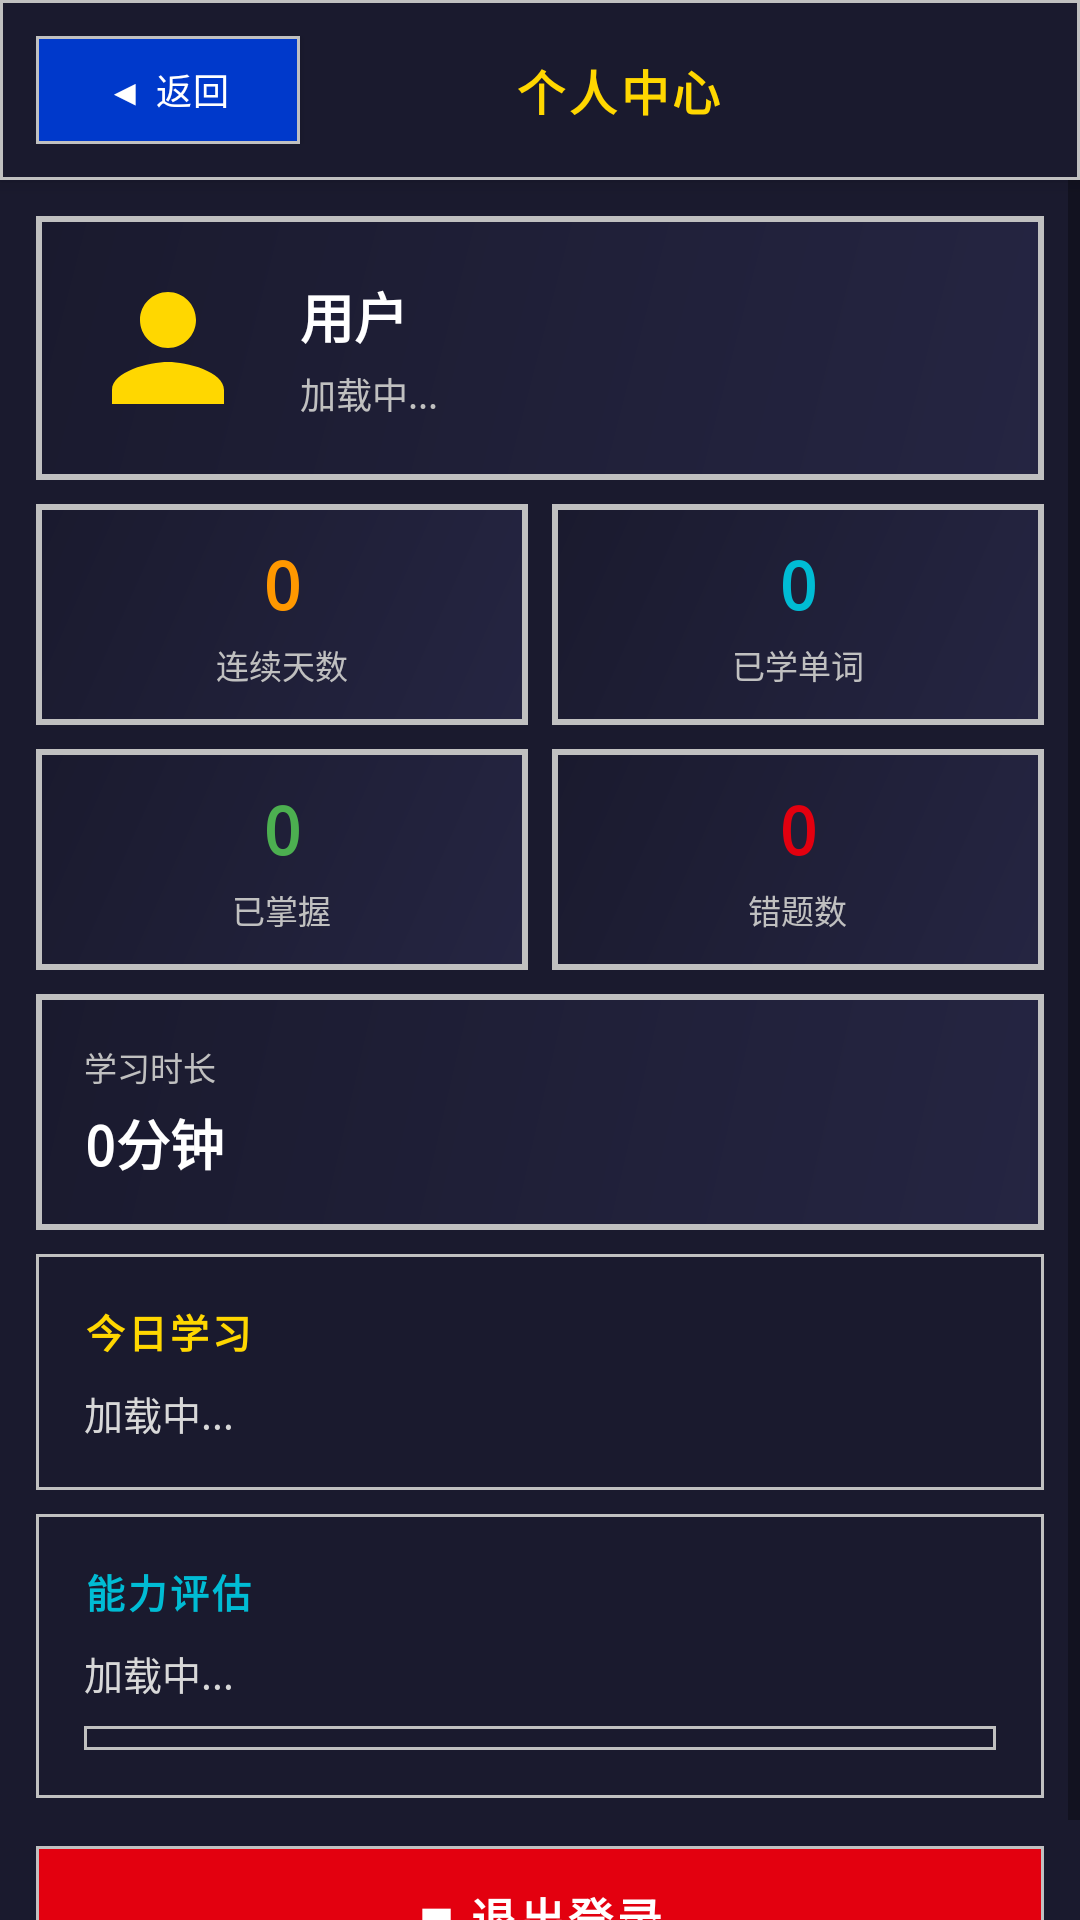

Where icons sit on this 1080x1920 app screen, as (x1, y1, x2, y2):
user center: (112, 292, 224, 404)
